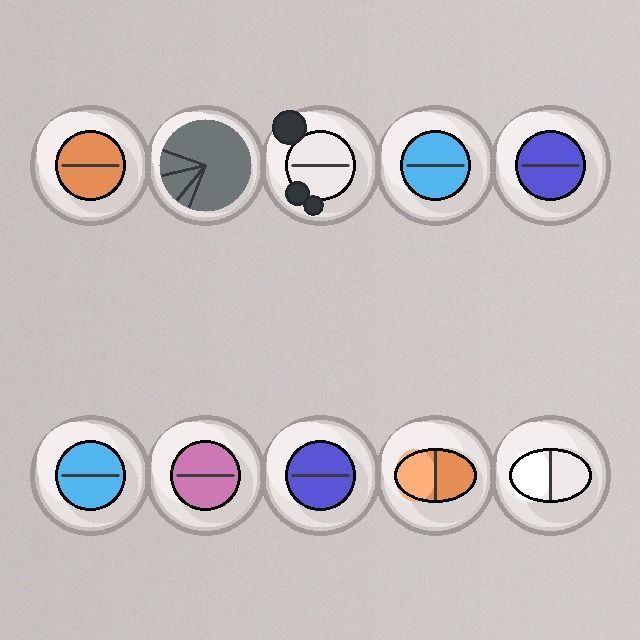empty: (143, 103, 267, 227)
stain: (258, 103, 382, 227)
